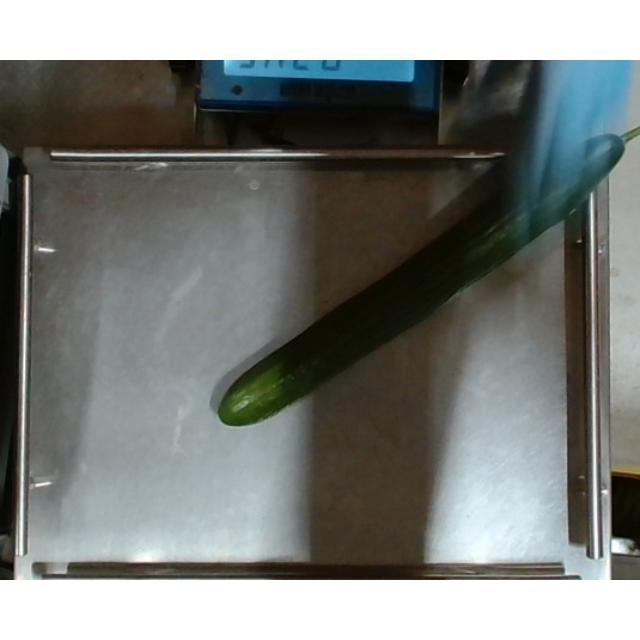cucumber: (218, 104, 640, 430)
